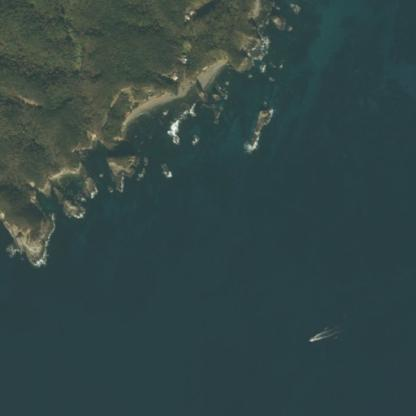ship: (291, 337, 297, 342)
